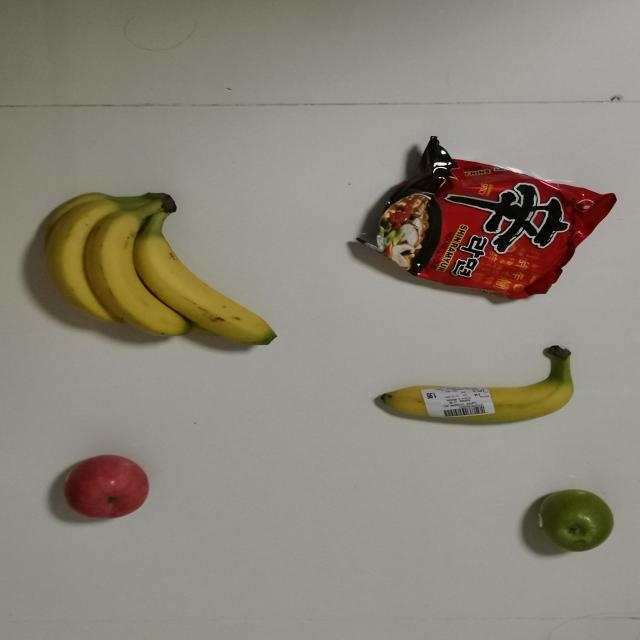Apple: (59, 449, 156, 523), (530, 485, 619, 554)
Banana: (34, 186, 274, 357), (357, 346, 600, 421)
